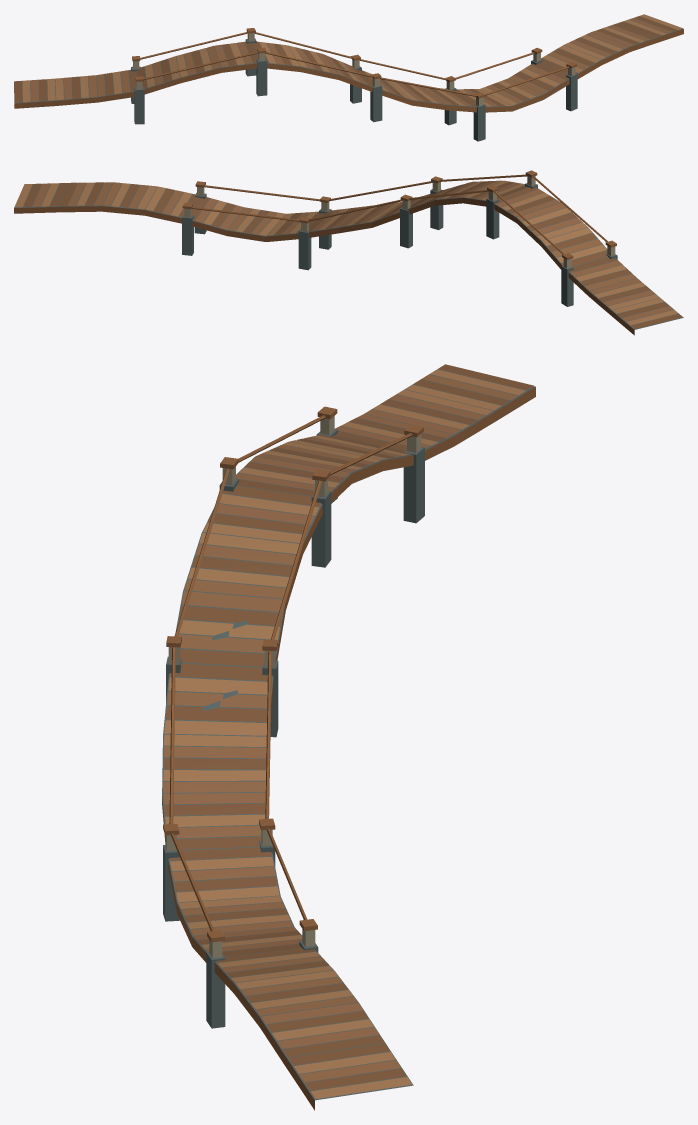
File: 1_orchard_pass_0.glb
3 views of the same model, one above another, from view 1: azimuth 30°, elevation 25°; view 2: azimuth 150°, elevation 25°; view 3: azimuth 270°, elevation 25° (orthographic). The views are drawn at different scales.
Parts seen in each view (by area): view 1: Detail_8_14, Detail_9_14, Deck_8_14-col, Deck_9_14-col; view 2: Detail_8_14, Detail_9_14, Deck_8_14-col, Deck_9_14-col; view 3: Detail_8_14, Detail_9_14, Deck_8_14-col, Deck_9_14-col.
Part boxes in pixels (bbox=[...]): Detail_8_14: bbox=[14, 28, 569, 141]; Detail_9_14: bbox=[486, 14, 683, 111]; Deck_8_14-col: bbox=[14, 42, 542, 107]; Deck_9_14-col: bbox=[508, 16, 683, 94]; Detail_8_14: bbox=[192, 170, 682, 335]; Detail_9_14: bbox=[14, 181, 277, 255]; Deck_8_14-col: bbox=[227, 181, 683, 329]; Deck_9_14-col: bbox=[14, 182, 244, 230]; Detail_8_14: bbox=[162, 364, 535, 931]; Detail_9_14: bbox=[177, 902, 412, 1110]; Deck_8_14-col: bbox=[162, 369, 535, 936]; Deck_9_14-col: bbox=[192, 927, 413, 1100].
Bounding box in the file's own units: 35.04 × 6.92 × 8.9.
